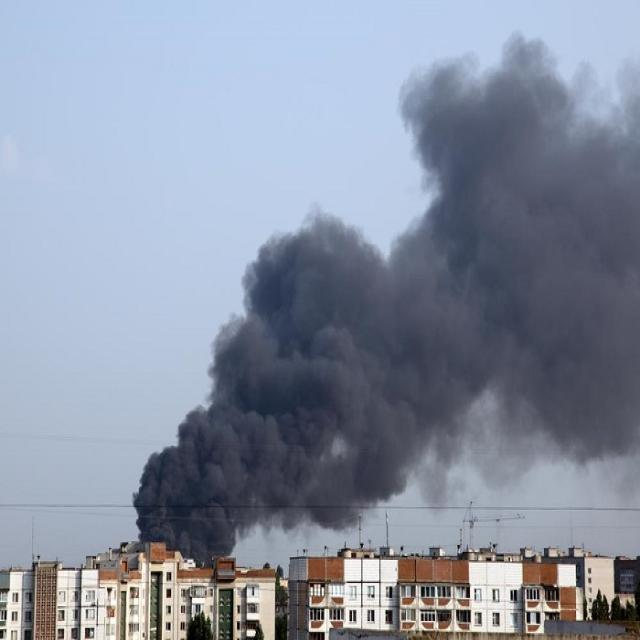Smoke: (410, 38, 630, 518), (123, 196, 404, 566)
